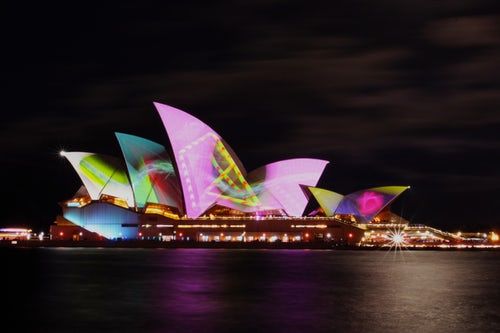opera house: (34, 82, 491, 261)
